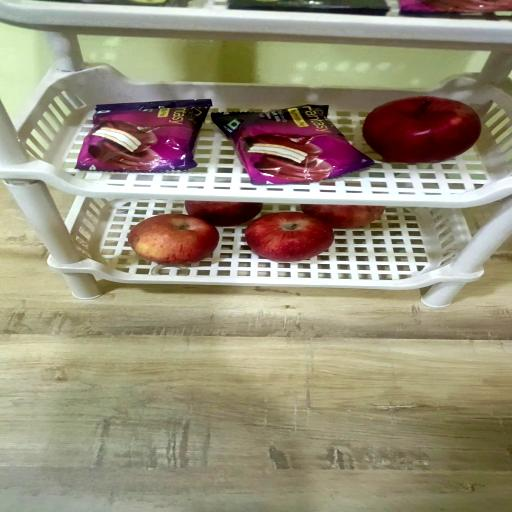Apple: (362, 95, 480, 163), (127, 216, 218, 268), (246, 214, 334, 264), (301, 206, 385, 231), (187, 202, 264, 228)
Choco Fills: (229, 0, 388, 13)
Choco Pie: (214, 104, 376, 184), (76, 98, 210, 171), (400, 0, 510, 19)
